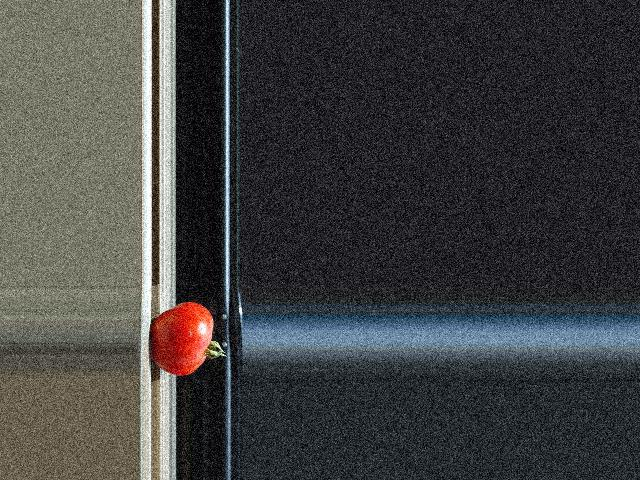tomato: (151, 302, 226, 375)
